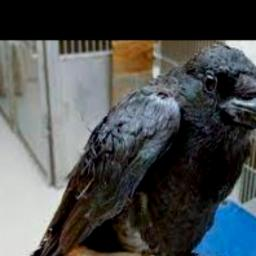Crow: (10, 44, 256, 256)
